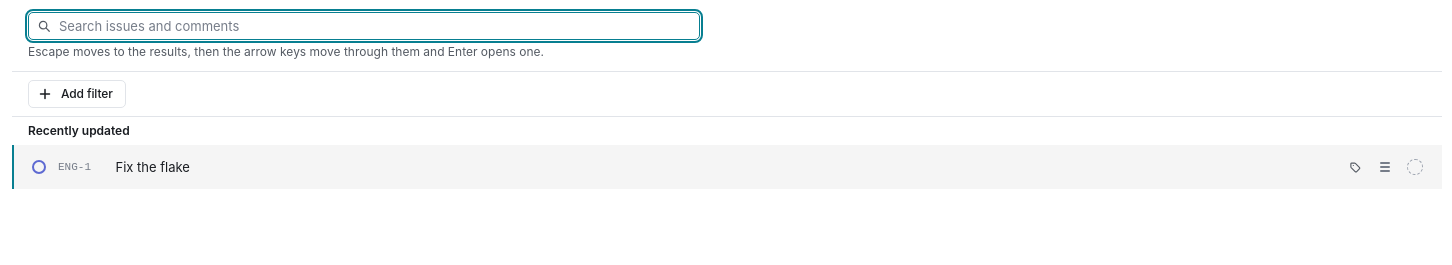
Test case: recent searches › remembers a settled search and offers it when the box is emptied
Type "flake" into the search field labelled "Search" at {"x": 375, "y": 26}, box [59,13,691,39]
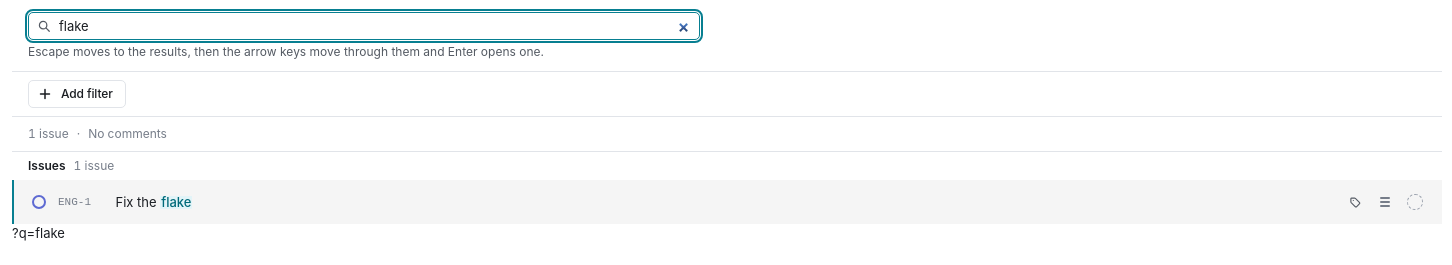
Clear the search field named "Search" at {"x": 375, "y": 26}, box [59,13,691,39]
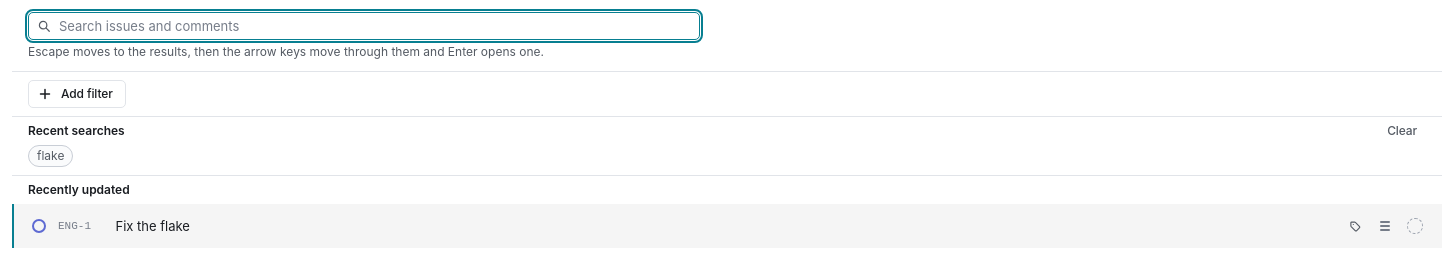
Check: the list shows "Fix the flake", box [12,204,1442,248]
Click the link "flake" at {"x": 51, "y": 156}, box [28,145,73,167]
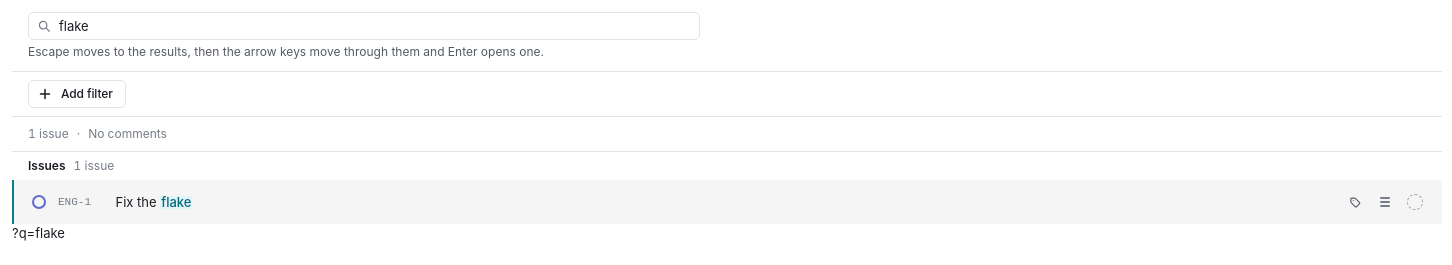
Check: the text with test id "location" reads "?q=flake", box [12,225,65,241]
